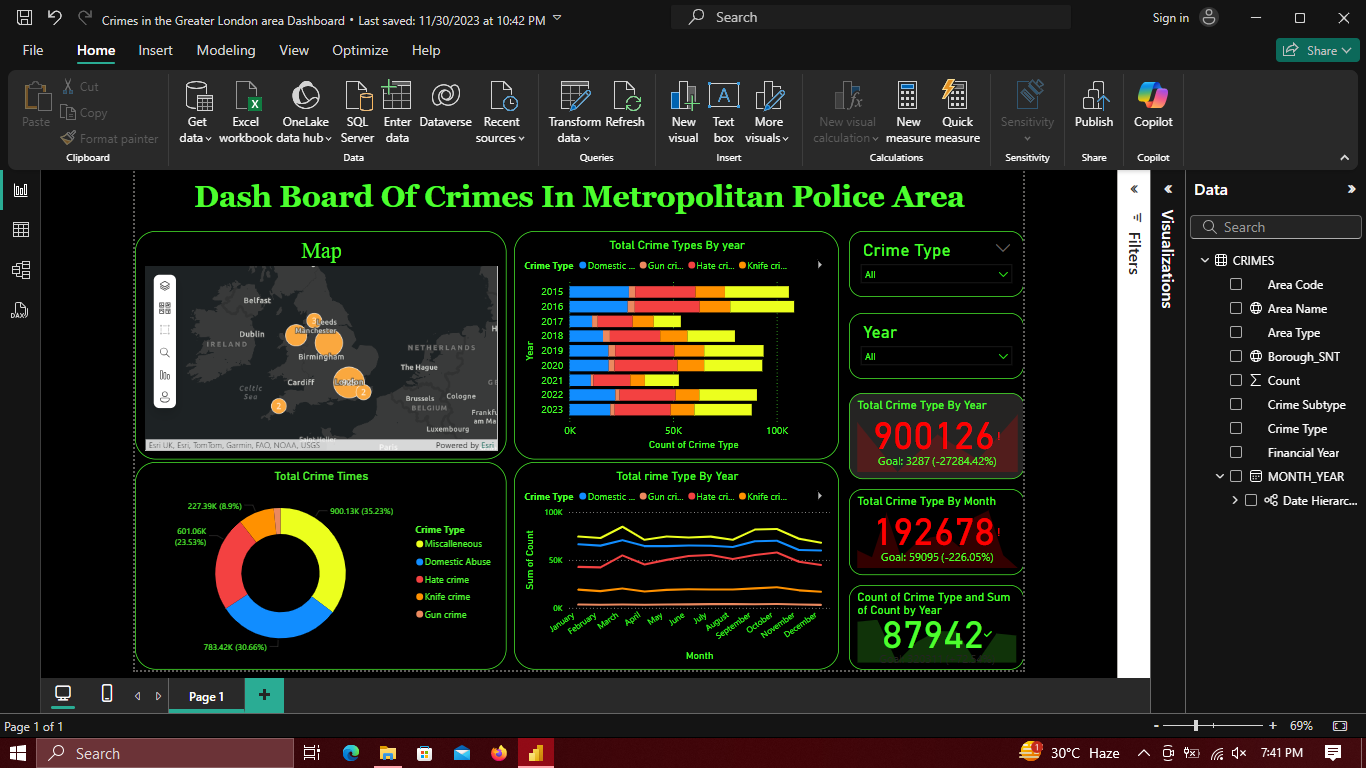

The page's visual inventory and layout, read from the dashboard file:
{"tool":"powerbi","page":{"name":"Page 1","canvas":[1280,720],"ordinal":0},"visuals":[{"type":"barChart","title":"Total Crime Types By year","fields":{"Category":["CRIMES.MONTH_YEAR.Variation.Date Hierarchy.Year"],"Y":["CountNonNull(CRIMES.Crime Type)"],"Series":["CRIMES.Crime Type"]},"box":[546.4,88,468.2,328.8],"z":0},{"type":"lineChart","title":"Total rime Type By Year","fields":{"Category":["CRIMES.MONTH_YEAR.Variation.Date Hierarchy.Month"],"Y":["Sum(CRIMES.Count)"],"Series":["CRIMES.Crime Type"]},"box":[546.4,420.5,468.2,299.5],"z":1000},{"type":"textbox","box":[0,8.6,1279.9,72.1],"z":2000},{"type":"slicer","fields":{"Values":["CRIMES.MONTH_YEAR.Variation.Date Hierarchy.Year"]},"box":[1028,205.4,251.8,95.3],"z":3000},{"type":"esriVisual","title":"Map","fields":{"Location":["CRIMES.Borough_SNT"],"Size":["Sum(CRIMES.Count)"]},"box":[0,88,535.4,328.8],"z":4000},{"type":"kpi","title":"Total Crime Type By Month","fields":{"Indicator":["Sum(CRIMES.Count)"],"Goal":["CountNonNull(CRIMES.Crime Type)"],"TrendLine":["CRIMES.MONTH_YEAR.Variation.Date Hierarchy.Month"]},"box":[1027.5,458.8,252.5,123.8],"z":5000},{"type":"donutChart","title":"Total Crime Times","fields":{"Y":["Sum(CRIMES.Count)"],"Category":["CRIMES.Crime Type"]},"box":[0,421,535,299],"z":6000},{"type":"slicer","fields":{"Values":["CRIMES.Crime Type"]},"box":[1028,88,251.8,95.3],"z":7000},{"type":"kpi","title":"Total Crime Type By Year","fields":{"TrendLine":["CRIMES.Crime Type"],"Goal":["CountNonNull(CRIMES.MONTH_YEAR.Variation.Date Hierarchy.Year)"],"Indicator":["Sum(CRIMES.Count)"]},"box":[1027.5,321.2,252.5,123.8],"z":8000},{"type":"kpi","fields":{"Indicator":["CountNonNull(CRIMES.Crime Type)"],"Goal":["Sum(CRIMES.Count)"],"TrendLine":["CRIMES.MONTH_YEAR.Variation.Date Hierarchy.Year"]},"box":[1028,597.8,251.8,122.2],"z":9000}]}

Visuals, with their boxes on the page's 1280x720 design canvas (x1, y1, x2, y2). These are canvas units, not pixel positions in the 1366x768 screenshot, which may show the page scaled, cropped or inside an application window:
"Total Crime Types By year" barChart: <region>546, 88, 1015, 417</region>
"Total rime Type By Year" lineChart: <region>546, 420, 1015, 720</region>
textbox: <region>0, 9, 1280, 81</region>
slicer - CRIMES.MONTH_YEAR.Variation.Date Hierarchy.Year: <region>1028, 205, 1280, 301</region>
"Map" esriVisual: <region>0, 88, 535, 417</region>
"Total Crime Type By Month" kpi: <region>1028, 459, 1280, 583</region>
"Total Crime Times" donutChart: <region>0, 421, 535, 720</region>
slicer - CRIMES.Crime Type: <region>1028, 88, 1280, 183</region>
"Total Crime Type By Year" kpi: <region>1028, 321, 1280, 445</region>
kpi - CountNonNull(CRIMES.Crime Type) x Sum(CRIMES.Count): <region>1028, 598, 1280, 720</region>
